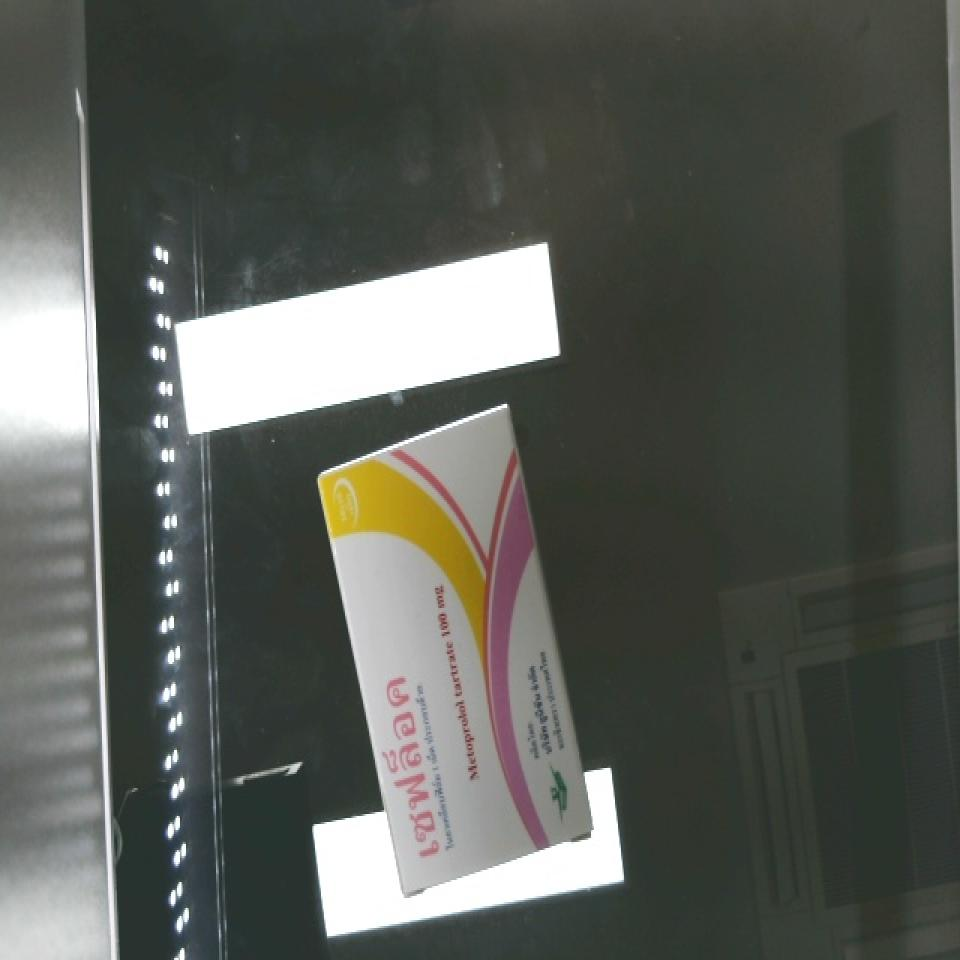medicine_box: (310, 407, 598, 899)
medicine_label_obb: (361, 660, 458, 878)
